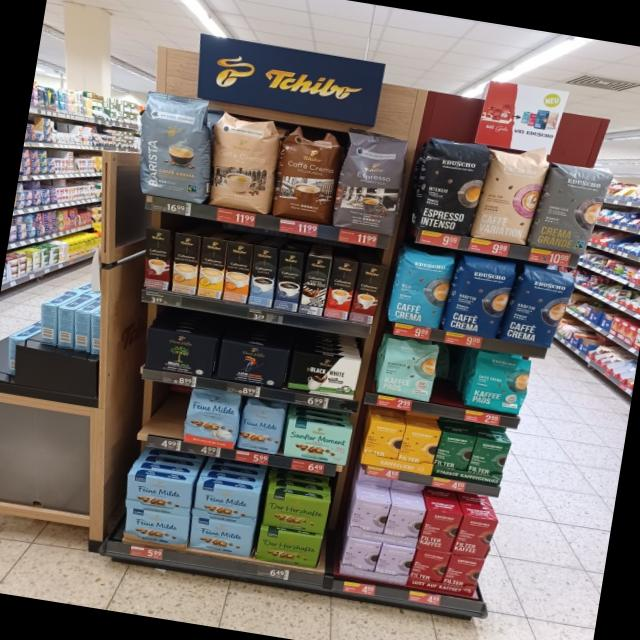BM Gemahlen: (140, 327, 218, 379)
BW Gemahlen: (287, 348, 362, 402)
Barista CC: (128, 87, 221, 205)
CC Mild: (202, 110, 284, 215)
CC Vollmundig 36 Pads: (270, 123, 344, 226)
Espresso Aromatisch: (332, 130, 410, 238)
FM 36 Pads: (181, 388, 243, 451)
FM Bohne: (237, 398, 288, 456)
FM Gemahlen: (122, 472, 196, 516), (122, 506, 192, 550), (192, 482, 260, 527), (188, 517, 255, 559)
Herzhatfe Mundig: (262, 491, 331, 536), (255, 527, 322, 569)
LG Gemahlen: (214, 338, 291, 391)
SM Gemahlen: (282, 416, 355, 467)
Simo CCMild bigpack: (198, 236, 227, 298)
Simo CCVollmundig bigpack: (224, 241, 253, 303)
Simo Decaff: (172, 232, 200, 295)
Simo Es Brazil: (324, 258, 358, 320)
Simo Es Caramel: (349, 263, 387, 324), (144, 227, 170, 289)
Simo Es Elegant: (299, 255, 331, 316)
Simo Es Kraft: (274, 250, 305, 311)
Simo Es Vanilla: (248, 245, 277, 307)
